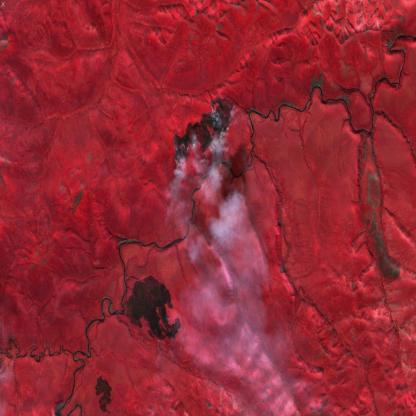fire: (168, 95, 236, 170)
